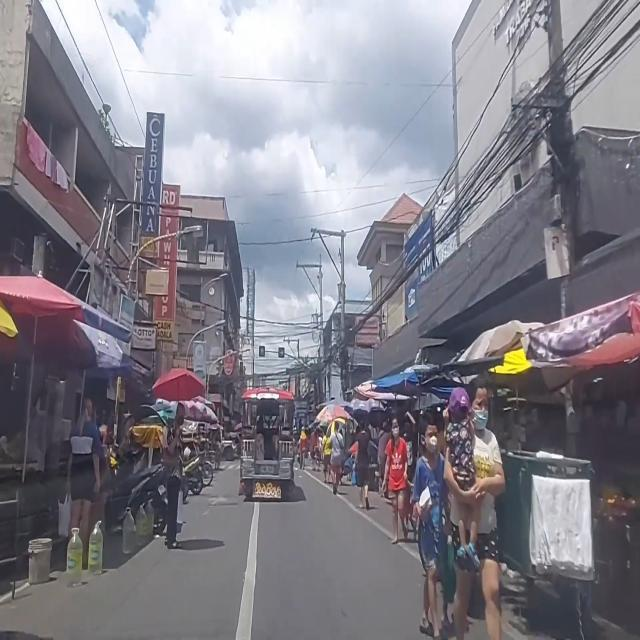jeepney: (240, 383, 300, 501), (219, 433, 237, 461)
motorcycle: (106, 448, 169, 532), (180, 446, 210, 494)
